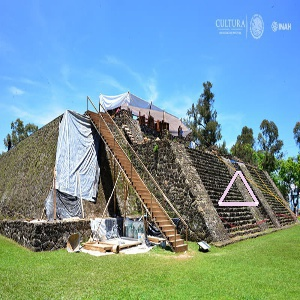triangle: (215, 168, 261, 207)
